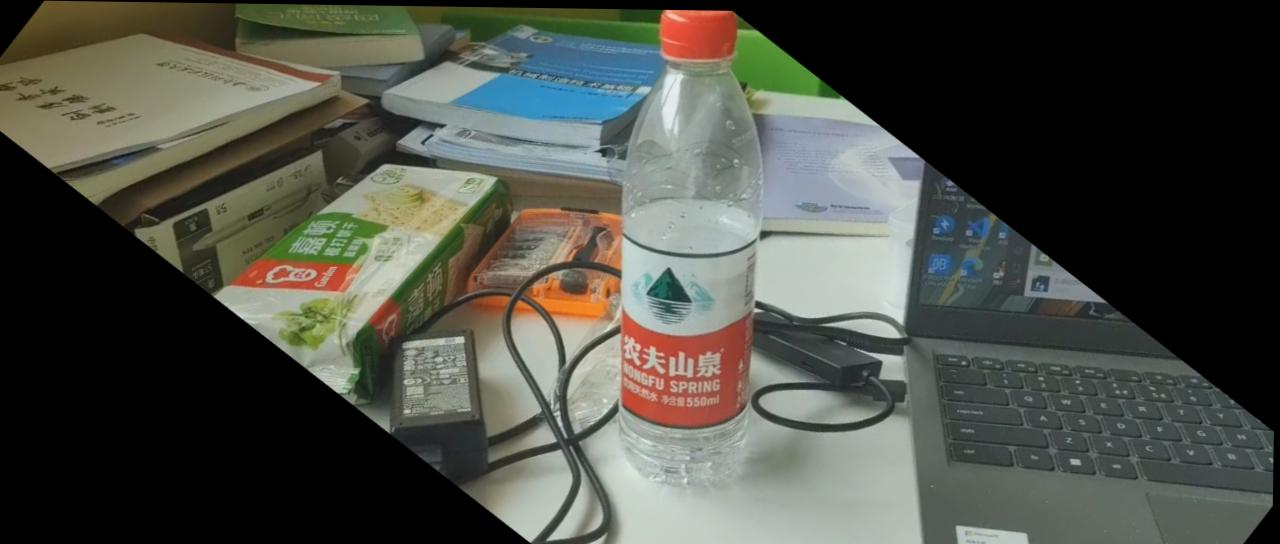plastic: (426, 6, 955, 516)
